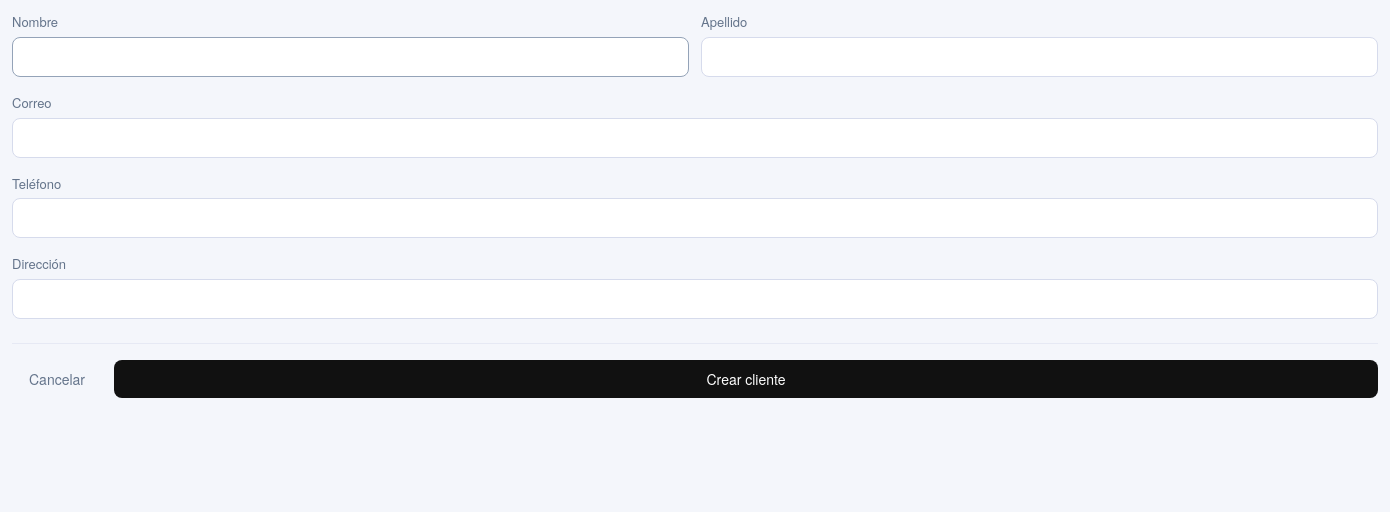
Test case: ClienteForm › el mensaje de error de un campo se borra apenas se empieza a corregir, sin esperar a un nuevo submit
This screenshot has width=1390, height=512.
Click the button "Crear cliente".
click(746, 379)  # box [114,360,1378,398]
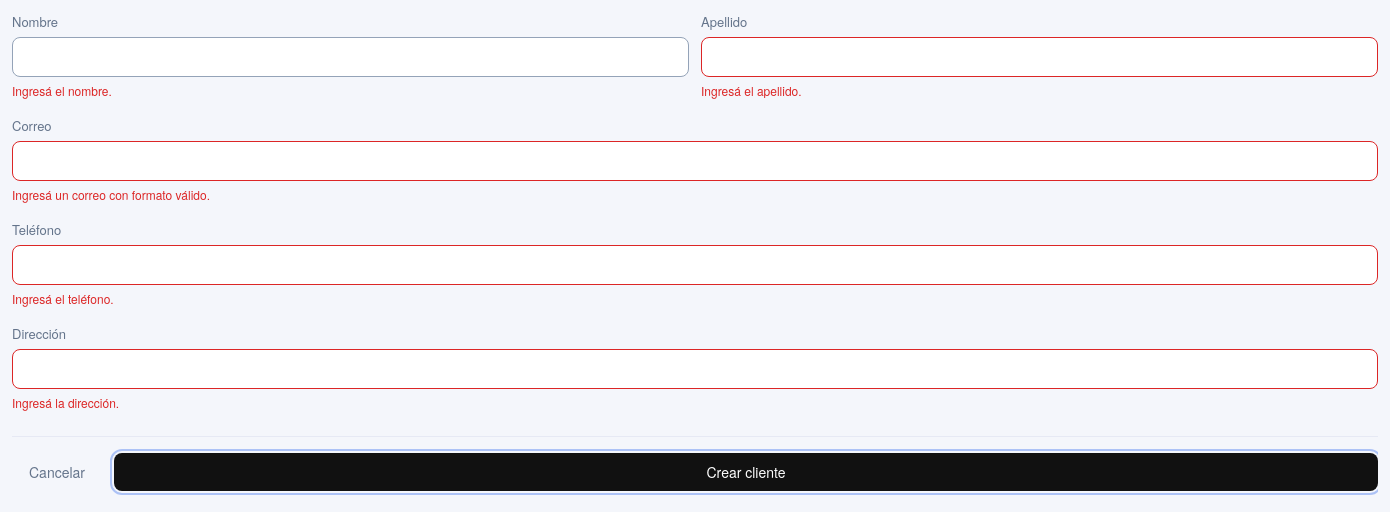
Check: the text "Ingresá el nombre." is shown, box [12,82,112,99]
Type "A" into the field labelled "Nombre".
click(350, 57); type("A")  # box [12,37,689,77]
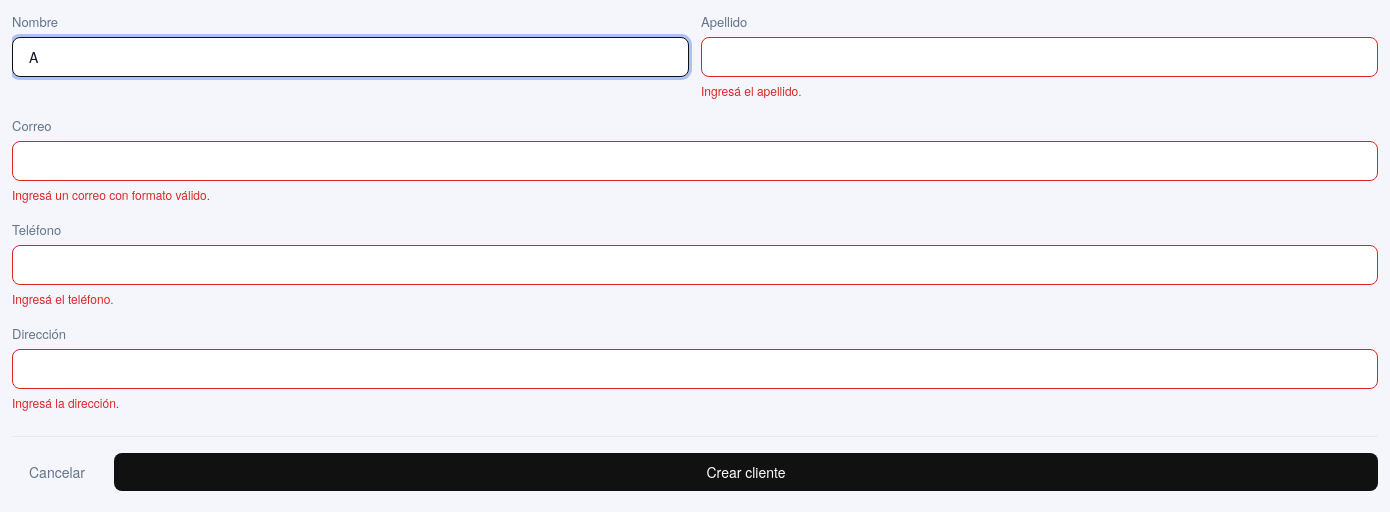
Check: the text "Ingresá el apellido." is shown, box [701,82,802,99]
Check: the text "Ingresá el nombre." is gone
